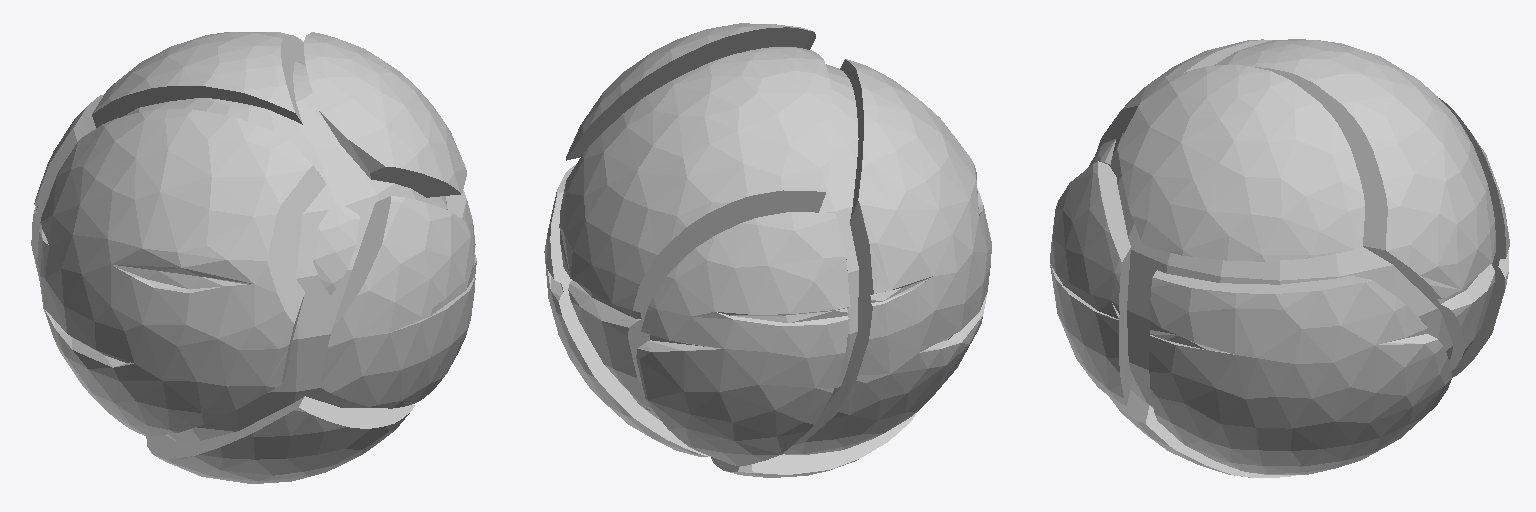
Rendered from Planet_11_Sphere.obj.
3 renders of one model, left to right at view 1: azimuth 30°, elevation 25°; view 2: azimuth 150°, elevation 25°; view 3: azimuth 270°, elevation 25°, orthographic.
Parts seen in each view (by area): view 1: Planet_11_Sphere.022; view 2: Planet_11_Sphere.022; view 3: Planet_11_Sphere.022.
Part boxes in pixels (left/top/right/bottom): Planet_11_Sphere.022: left=31, top=32, right=476, bottom=483; Planet_11_Sphere.022: left=544, top=23, right=991, bottom=477; Planet_11_Sphere.022: left=1050, top=39, right=1509, bottom=477.
Bounding box in the file's own units: 5.59 × 5.67 × 5.74.